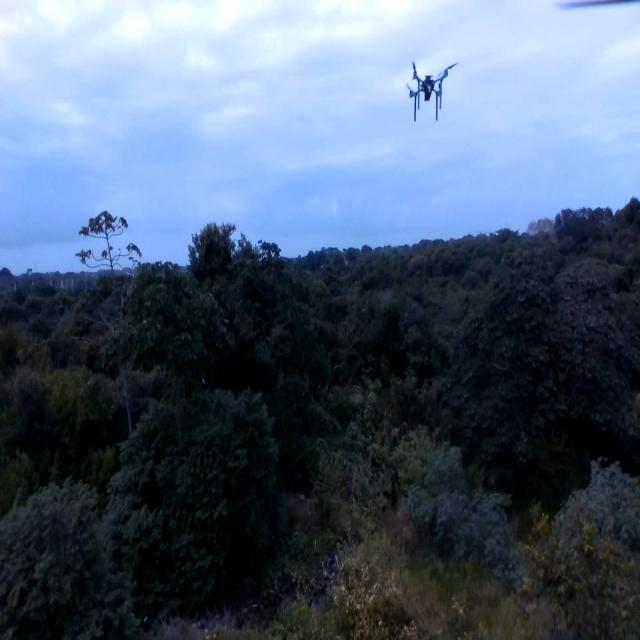-uav-: (398, 46, 467, 139)
